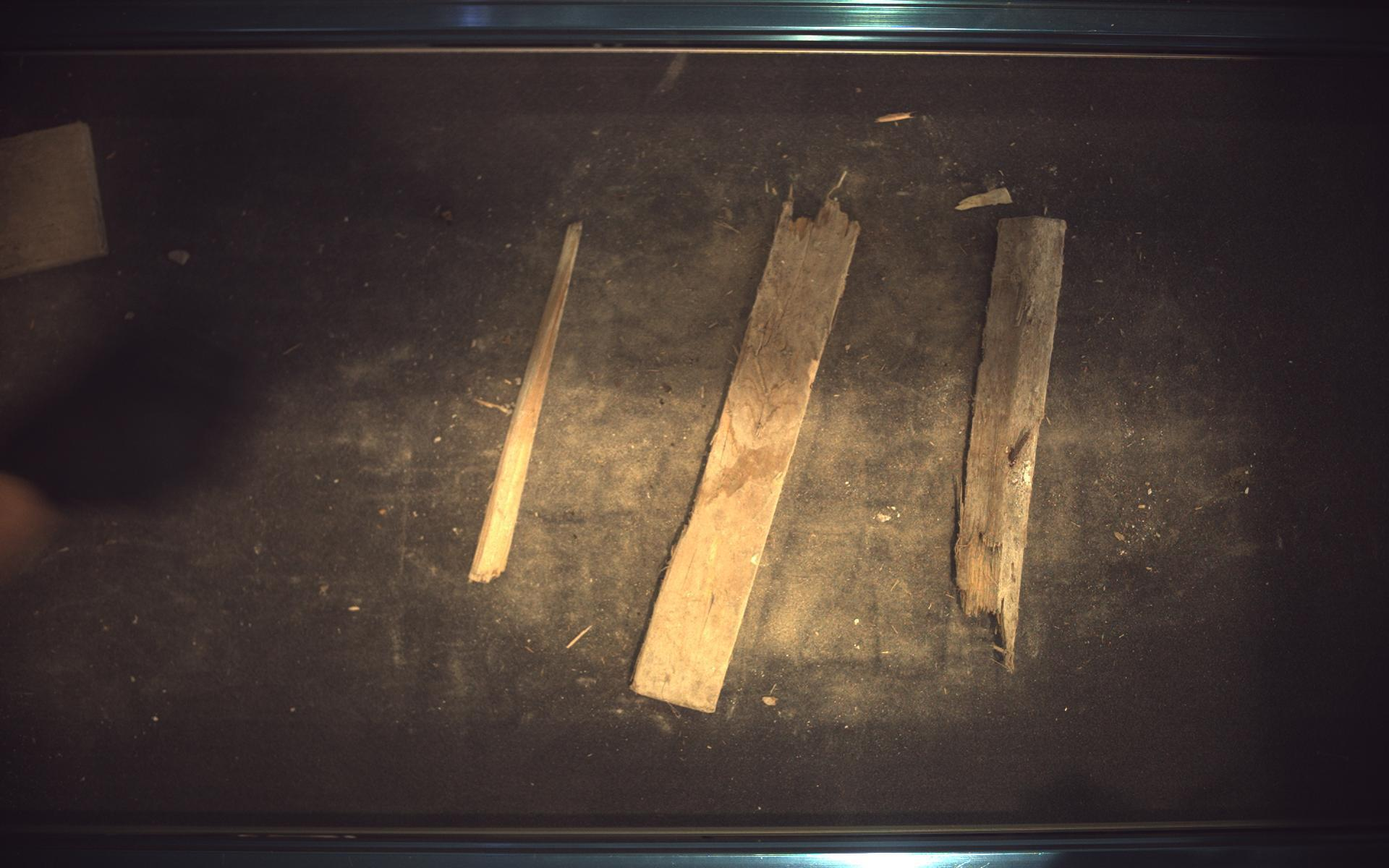wood: (632, 195, 861, 714), (957, 216, 1069, 671), (957, 187, 1015, 210)
